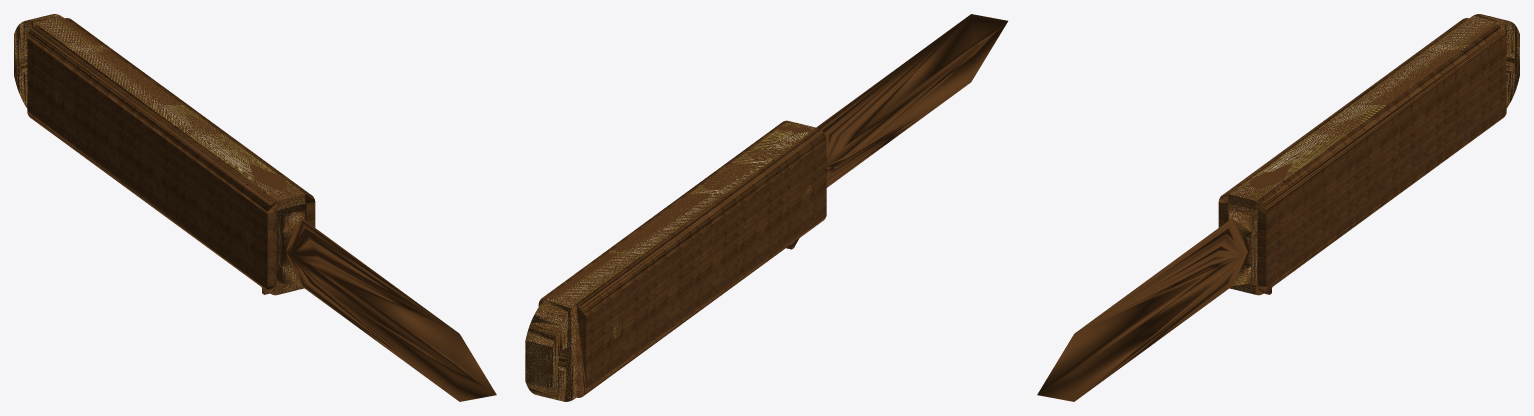
The model's file is model_align.obj.
3 views of the same model, side by side, from view 1: azimuth 30°, elevation 25°; view 2: azimuth 150°, elevation 25°; view 3: azimuth 330°, elevation 25° (orthographic).
Bounding box in the file's own units: 0.0142 × 0.0308 × 0.2422.
